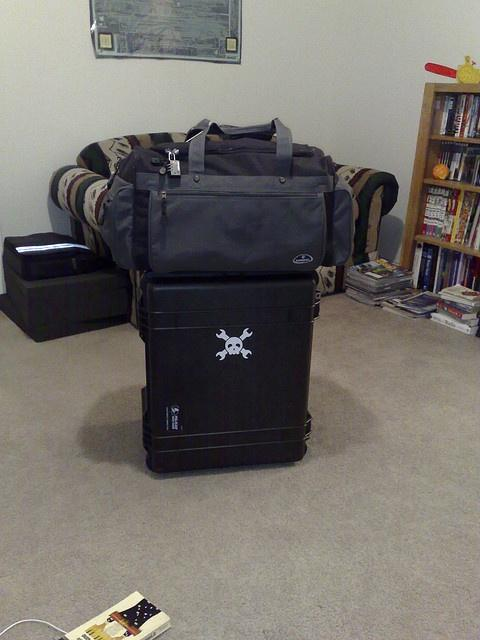Rak: (396, 80, 479, 296)
